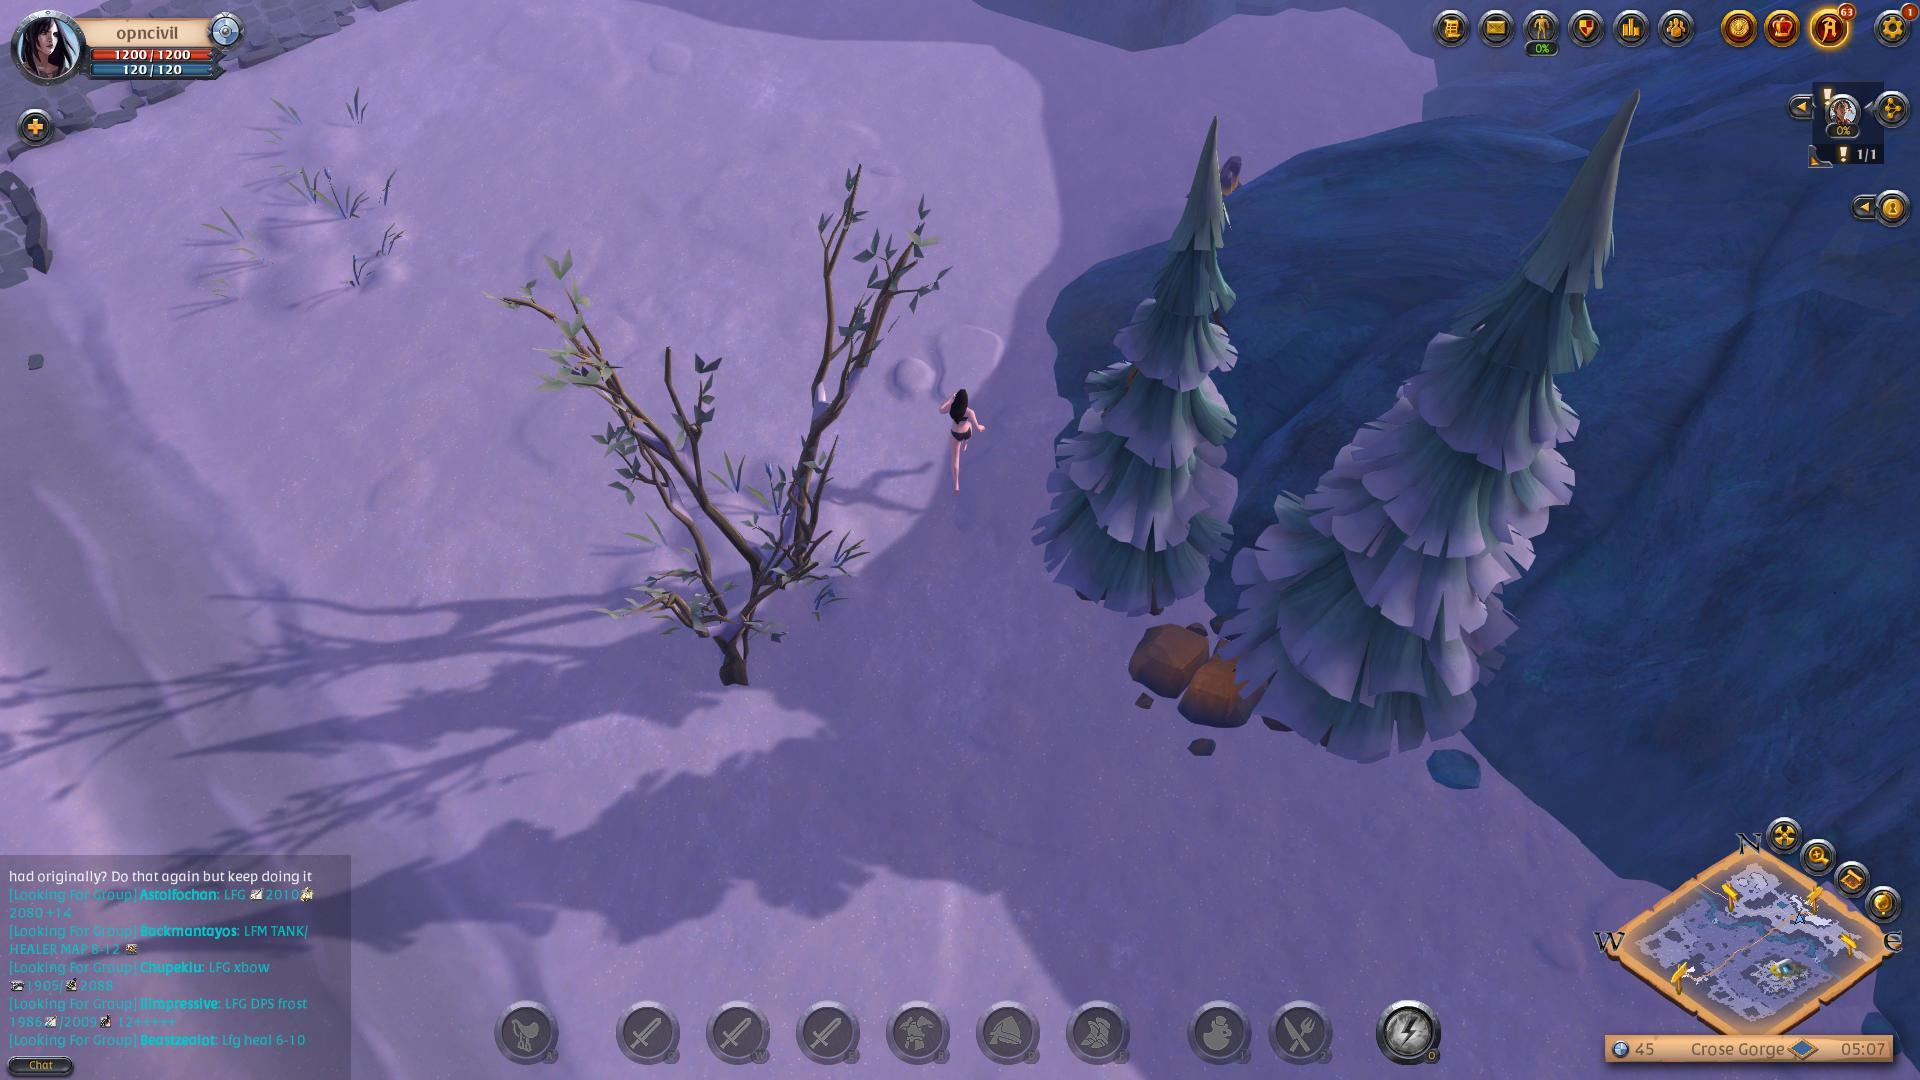copper_ore: (1197, 142, 1255, 202)
limestone: (1127, 607, 1287, 741)
